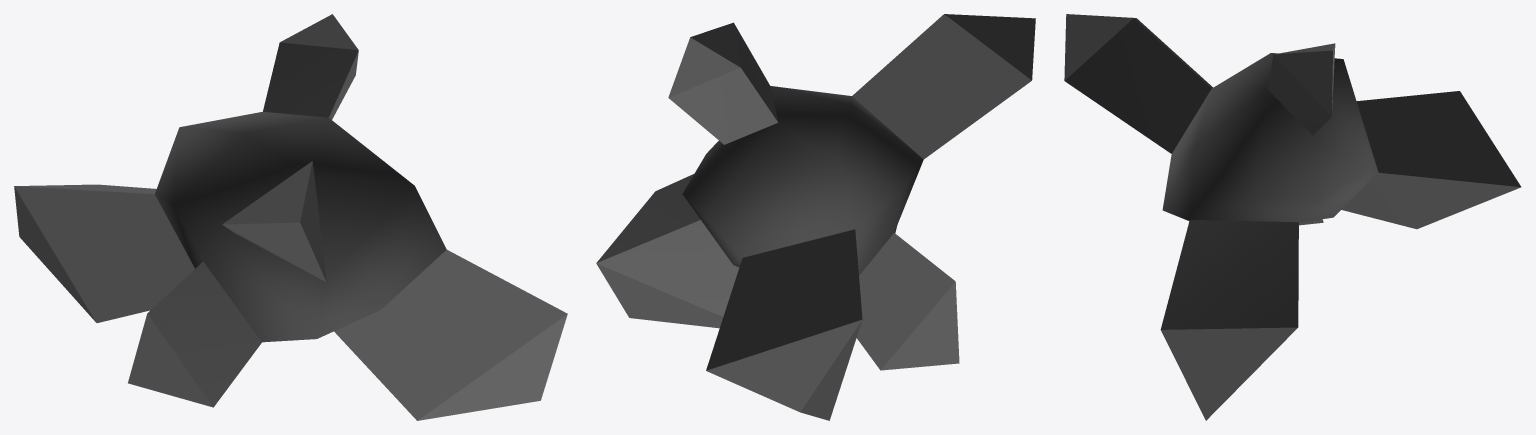
The model's file is asteroid_alien.glb.
3 renders of one model, left to right at view 1: azimuth 30°, elevation 25°; view 2: azimuth 150°, elevation 25°; view 3: azimuth 270°, elevation 25°, orthographic. The views are drawn at different scales.
Visible parts, largest first — view 1: group_13; view 2: group_13; view 3: group_13.
Boxes of the visible parts, x1,y1,x2,y2 form: group_13: (14, 14, 567, 420); group_13: (596, 14, 1035, 420); group_13: (1064, 14, 1521, 420).
Size of the model in its own units: 3307 by 3042 by 4012.
1 material, 1 textured.
